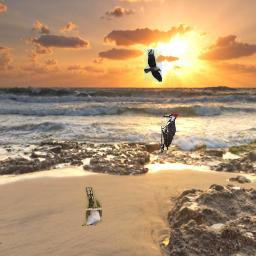Crow: (144, 49, 162, 82)
Cuckoo: (82, 187, 102, 226)
Woodpecker: (161, 114, 178, 154)
